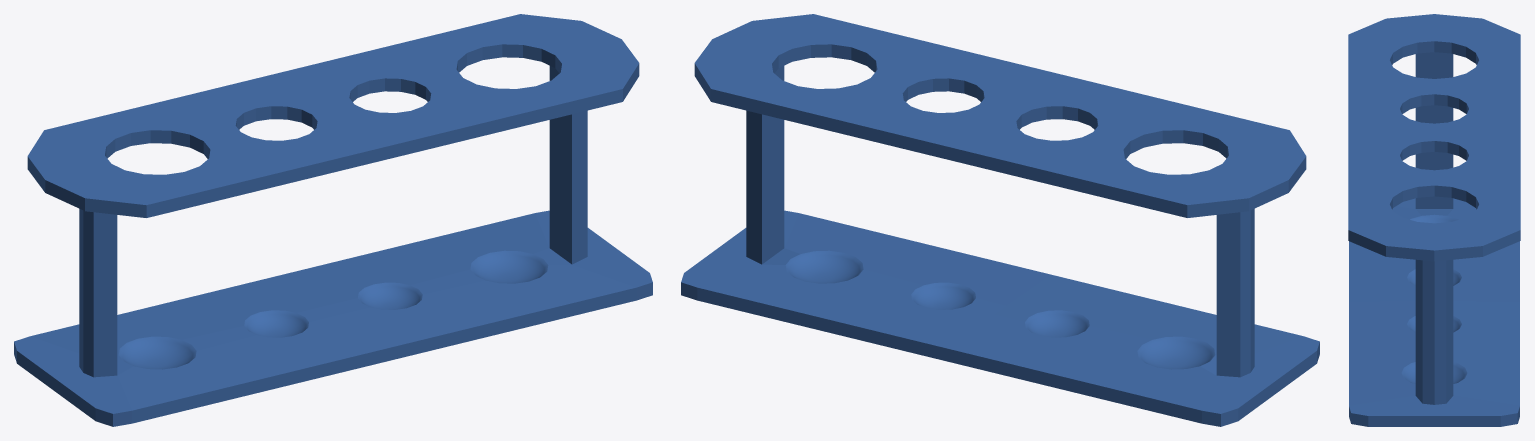
Rendered from Kasnali Holder.fbx.
The picture shows the model from 3 angles, left to right: view 1: azimuth 30°, elevation 25°; view 2: azimuth 150°, elevation 25°; view 3: azimuth 270°, elevation 25°; orthographic projection. The views are drawn at different scales.
Visible parts, largest first — view 1: Kasnali Holder; view 2: Kasnali Holder; view 3: Kasnali Holder.
Boxes of the visible parts, x1=… form: Kasnali Holder: x1=14, y1=14, x2=652, y2=426; Kasnali Holder: x1=681, y1=14, x2=1319, y2=426; Kasnali Holder: x1=1348, y1=14, x2=1520, y2=426.
Size of the model in its own units: 232 by 82.89 by 71.5.
